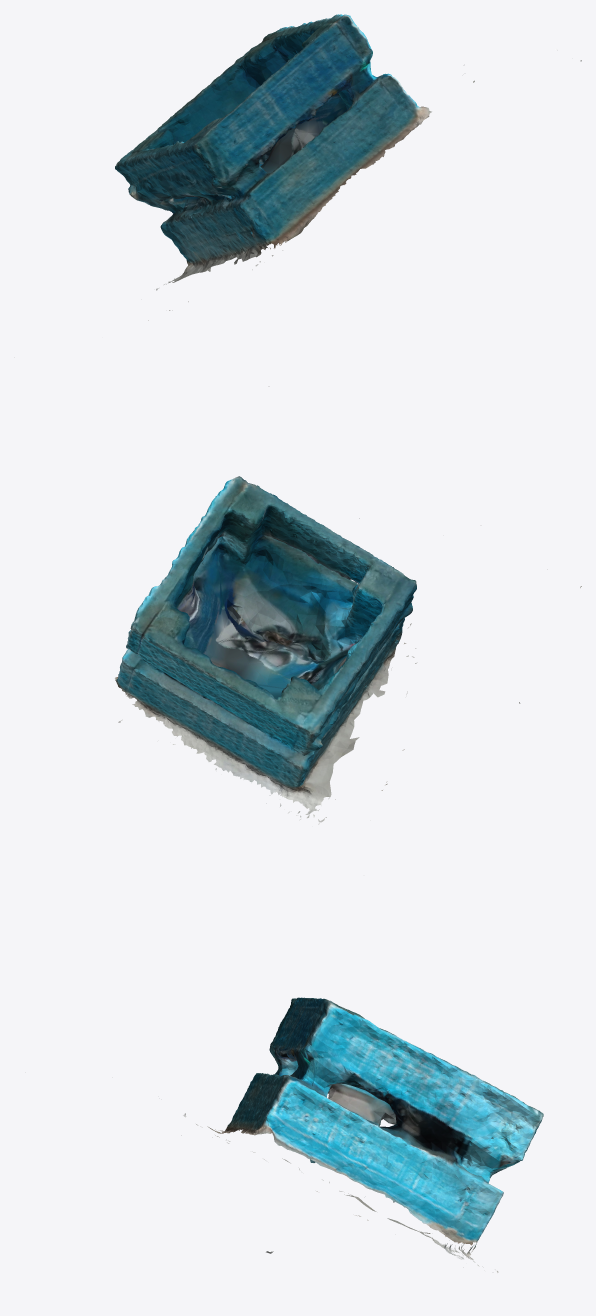
Rendered from prac4.glb.
The picture shows the model from 3 angles, top to bottom: view 1: azimuth 30°, elevation 25°; view 2: azimuth 150°, elevation 25°; view 3: azimuth 270°, elevation 25°; orthographic projection. The views are drawn at different scales.
Bounding box in the file's own units: 12.63 × 10.53 × 12.73.
Materials: 1 (1 with a texture image).
